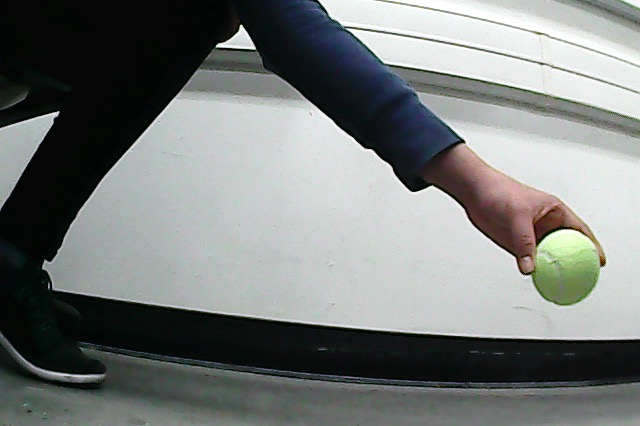ball: (526, 225, 605, 311)
